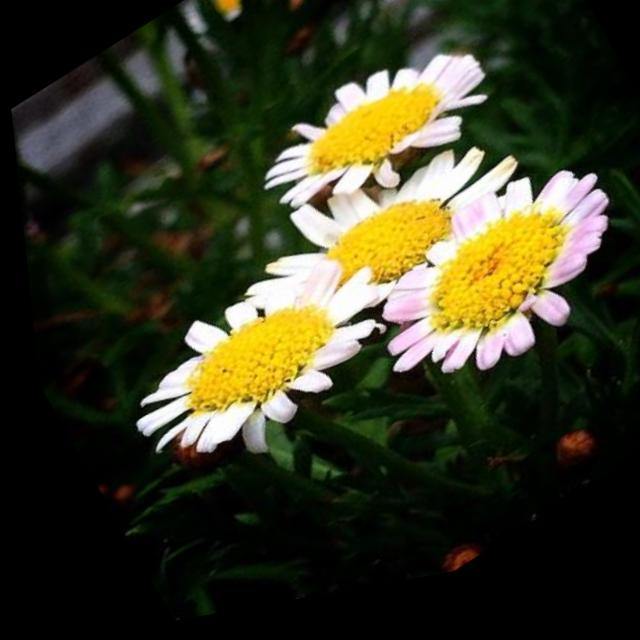Flower: (199, 94, 550, 398), (299, 153, 640, 459), (82, 243, 393, 512), (232, 17, 519, 248)
